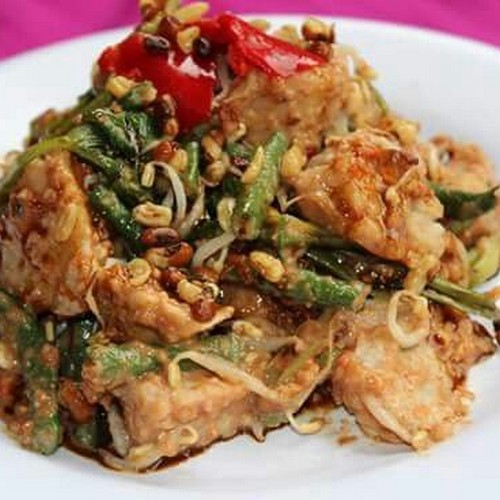tipat cantok: (25, 28, 488, 456)
